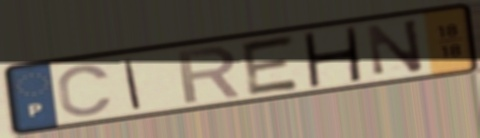C: (55, 62, 117, 118)
E: (238, 32, 304, 98)
H: (299, 25, 364, 88)
I: (121, 57, 145, 111)
N: (363, 16, 427, 78)
R: (174, 44, 244, 106)
